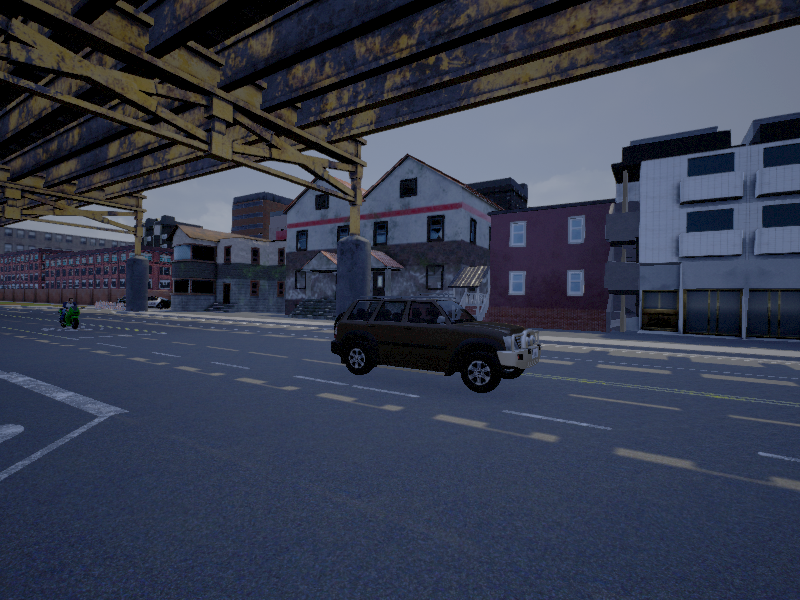benign: (330, 298, 541, 395)
